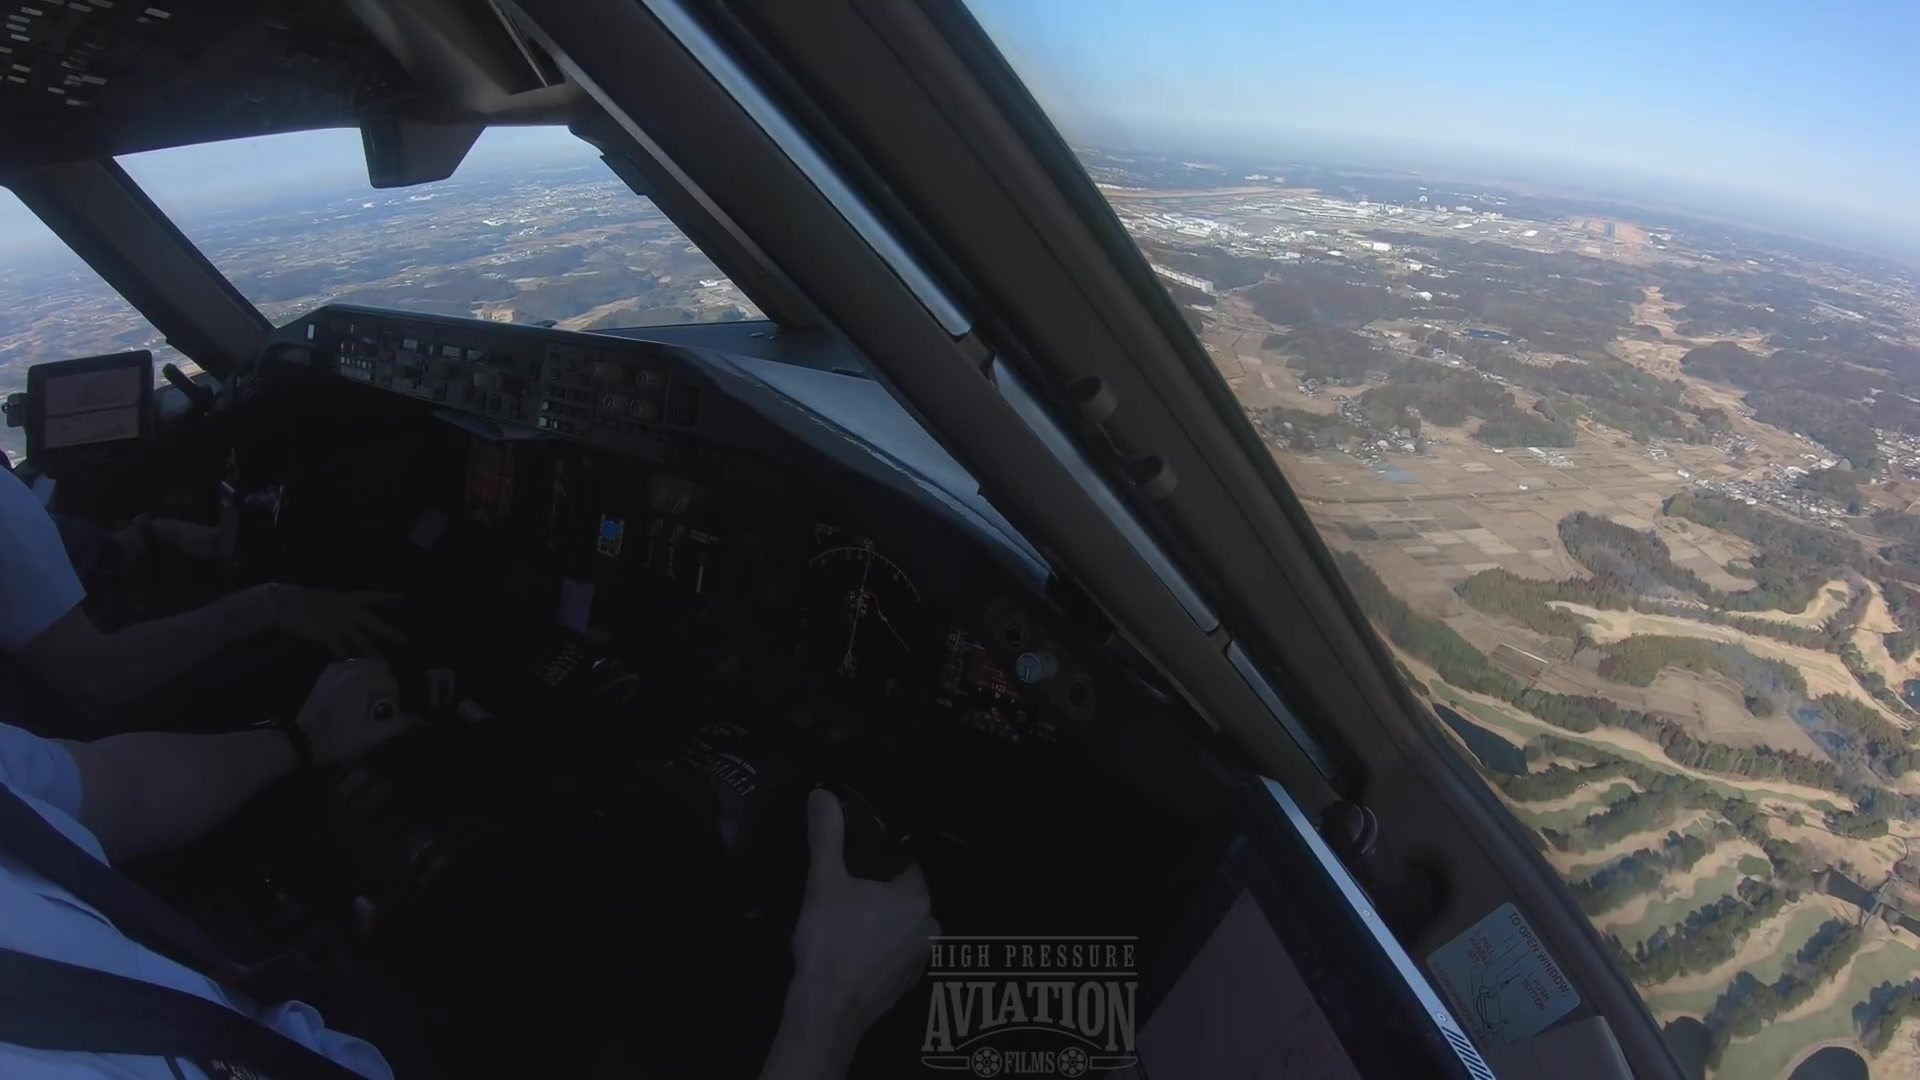runway: (1601, 219, 1618, 243)
